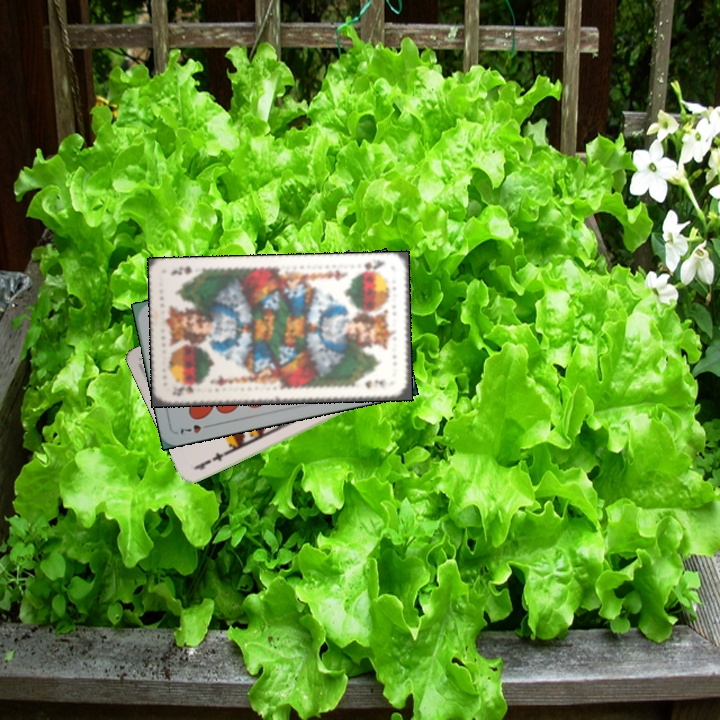E7: (191, 448, 230, 472)
H7: (176, 420, 215, 437)
SK: (355, 256, 388, 276), (168, 381, 197, 399)
